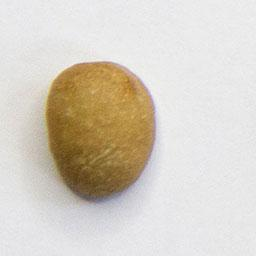defect: (42, 58, 160, 199)
